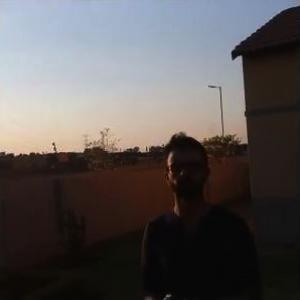follow: (133, 133, 263, 299)
